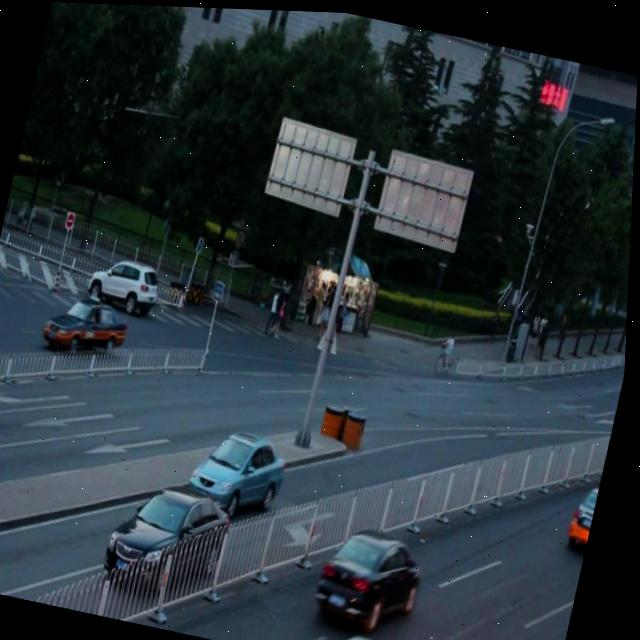car: (106, 476, 243, 598), (315, 519, 434, 637), (188, 419, 295, 518), (43, 289, 136, 361), (88, 251, 166, 314), (569, 470, 605, 545), (315, 618, 429, 640), (0, 542, 3, 592)
